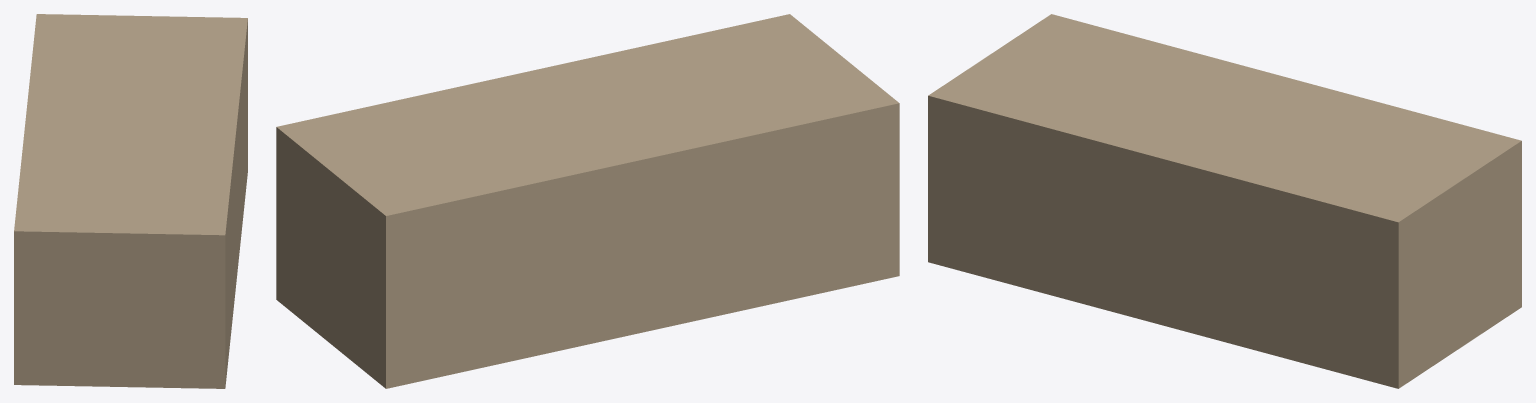
The model's file is bld_99549225.dae.
The picture shows the model from 3 angles, left to right: view 1: azimuth 30°, elevation 25°; view 2: azimuth 150°, elevation 25°; view 3: azimuth 270°, elevation 25°; orthographic projection. The views are drawn at different scales.
Visible parts, largest first — view 1: bld_99549225; view 2: bld_99549225; view 3: bld_99549225.
Boxes of the visible parts, x1,y1,x2,y2 form: bld_99549225: (14, 14, 247, 388); bld_99549225: (276, 14, 899, 388); bld_99549225: (928, 14, 1521, 388).
Size of the model in its own units: 21.46 by 25.84 by 8.
